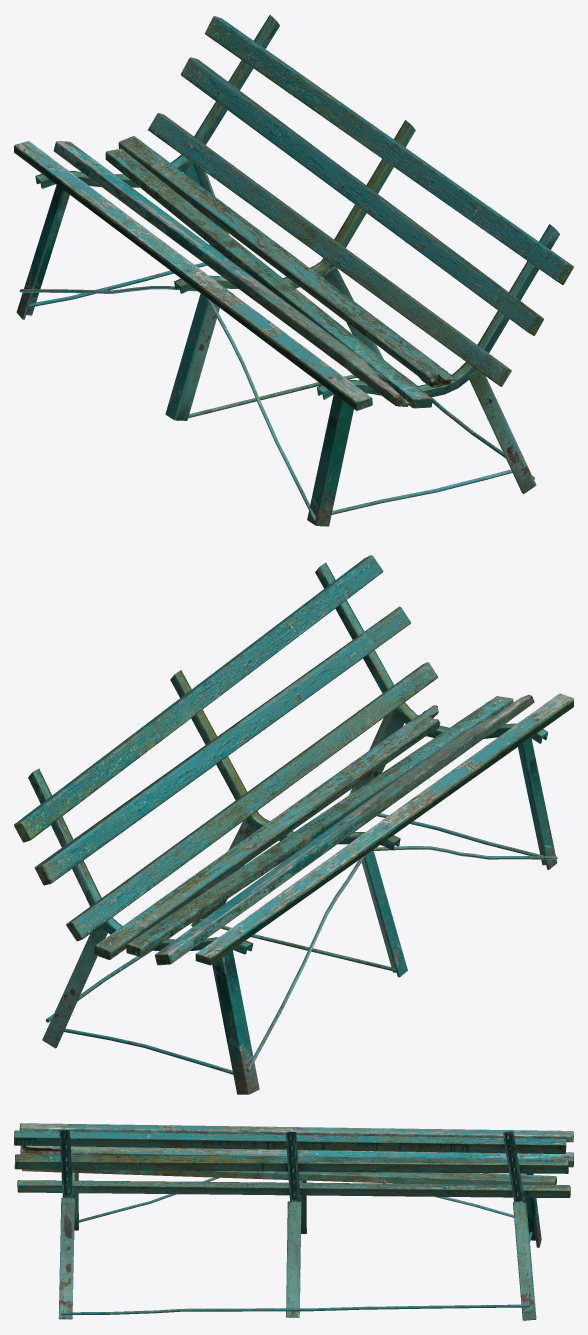
The model's file is sm_Bench_01_02.fbx.
3 renders of one model, top to bottom at view 1: azimuth 30°, elevation 25°; view 2: azimuth 150°, elevation 25°; view 3: azimuth 270°, elevation 25°, orthographic. The views are drawn at different scales.
Visible parts, largest first — view 1: sm_Bench_01_02_LOD0; view 2: sm_Bench_01_02_LOD0; view 3: sm_Bench_01_02_LOD0.
Boxes of the visible parts, x1,y1,x2,y2 form: sm_Bench_01_02_LOD0: [14, 15, 573, 526]; sm_Bench_01_02_LOD0: [14, 555, 573, 1094]; sm_Bench_01_02_LOD0: [14, 1123, 573, 1320].
Bounding box in the file's own units: 87.59 × 221 × 88.03.
